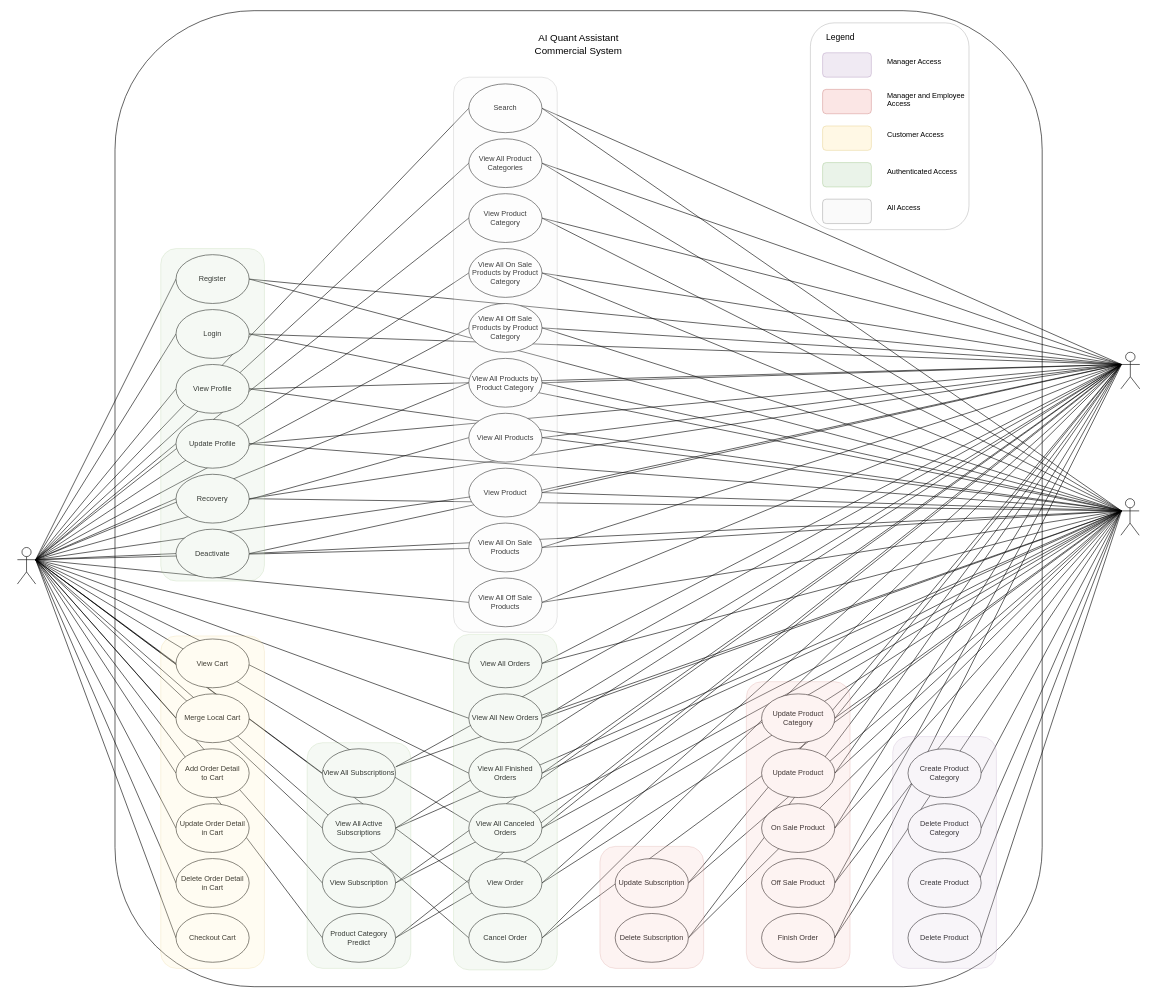
The diagram is 1157 pixels wide and 997 high, and some of its shapes have lost their labels. The shapes that lost their labels are listed below. From the top down, each one's box as (x1, y1, x2, y2) in pixels, then its label:
(1120, 352, 1140, 389): Employee
(1120, 498, 1139, 535): Manager
(17, 547, 36, 584): Customer
